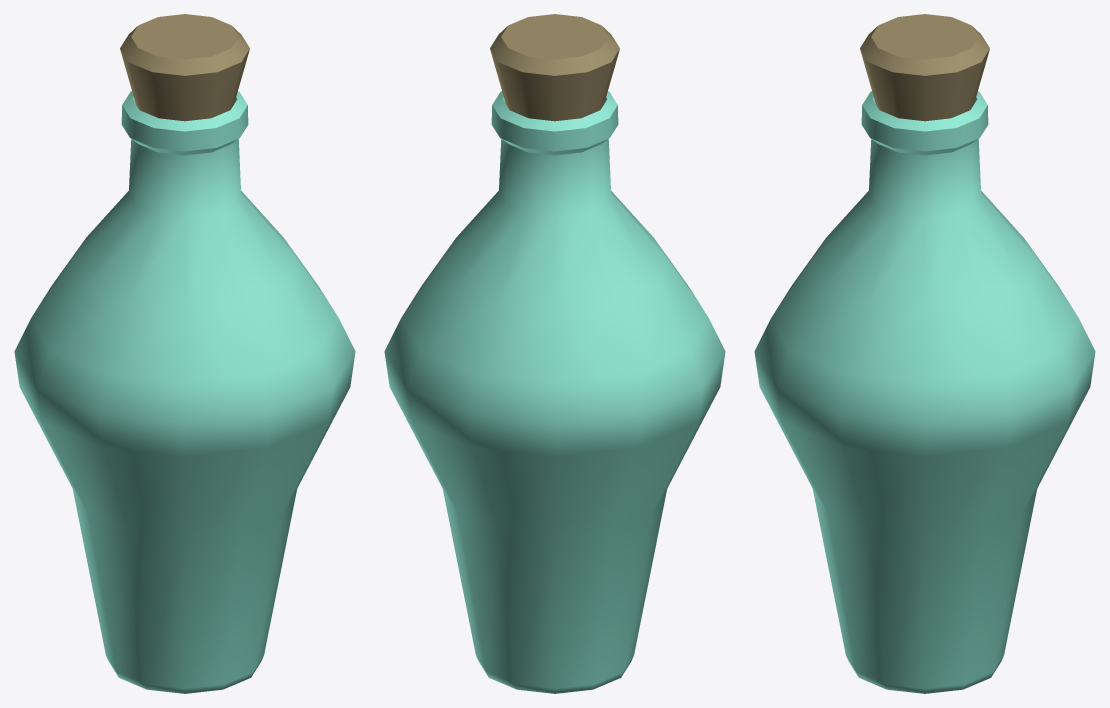
Rendered from Bottle.fbx.
3 views of the same model, side by side, from view 1: azimuth 30°, elevation 25°; view 2: azimuth 150°, elevation 25°; view 3: azimuth 270°, elevation 25° (orthographic).
Visible parts, largest first — view 1: Bottle, Cork; view 2: Bottle, Cork; view 3: Bottle, Cork.
Part boxes in pixels (x1,y1,x2,y2): Bottle: (14, 91, 355, 693); Cork: (120, 14, 249, 121); Bottle: (384, 91, 725, 693); Cork: (490, 14, 619, 121); Bottle: (754, 91, 1095, 693); Cork: (860, 14, 989, 121).
Bounding box in the file's own units: 3.27 × 6.64 × 3.27.
